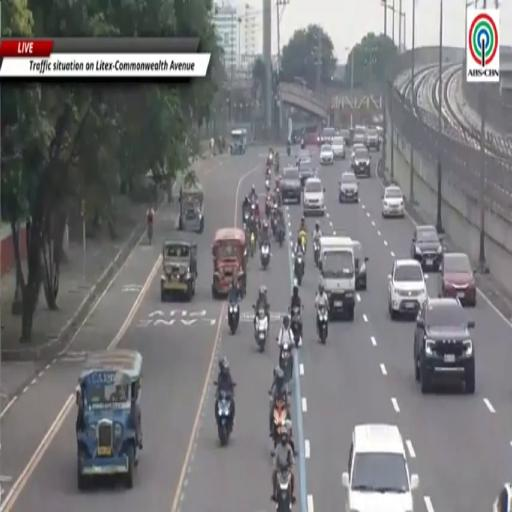car: (342, 424, 419, 511), (414, 298, 474, 393), (388, 260, 427, 319), (439, 253, 476, 307), (410, 225, 443, 272), (280, 167, 302, 204), (303, 178, 324, 216), (353, 240, 368, 290), (382, 186, 404, 217), (339, 172, 359, 202), (352, 148, 371, 178), (493, 484, 511, 511), (298, 159, 315, 187), (366, 128, 380, 151), (350, 143, 366, 161), (319, 127, 335, 145), (332, 136, 345, 158), (320, 144, 333, 165), (296, 150, 312, 165), (339, 128, 351, 146), (353, 134, 365, 145), (376, 126, 383, 141)
jeepney: (76, 349, 142, 489), (319, 236, 355, 321), (212, 228, 246, 298), (161, 240, 197, 301), (179, 182, 204, 233), (231, 130, 247, 154)
motorcycle: (273, 396, 289, 452), (217, 391, 233, 445), (276, 468, 292, 511), (279, 342, 293, 382), (255, 309, 268, 351), (317, 307, 328, 344), (291, 307, 301, 347), (228, 301, 239, 334), (294, 252, 304, 285), (276, 220, 285, 247), (261, 242, 270, 269), (271, 205, 277, 239), (313, 240, 320, 266), (265, 195, 273, 217), (249, 231, 255, 257), (243, 208, 251, 226), (300, 231, 306, 254), (147, 222, 152, 245), (275, 187, 281, 205), (265, 165, 271, 182), (274, 157, 279, 175), (265, 178, 270, 188), (301, 138, 305, 149), (287, 146, 290, 156)
